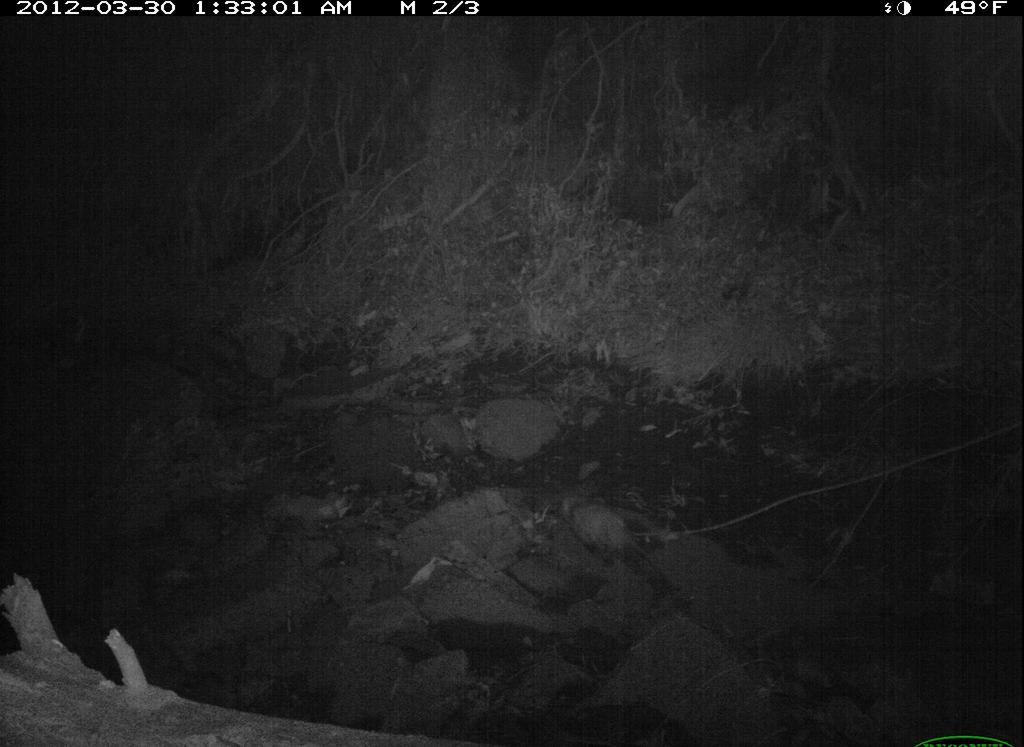opossum: (542, 472, 676, 593)
